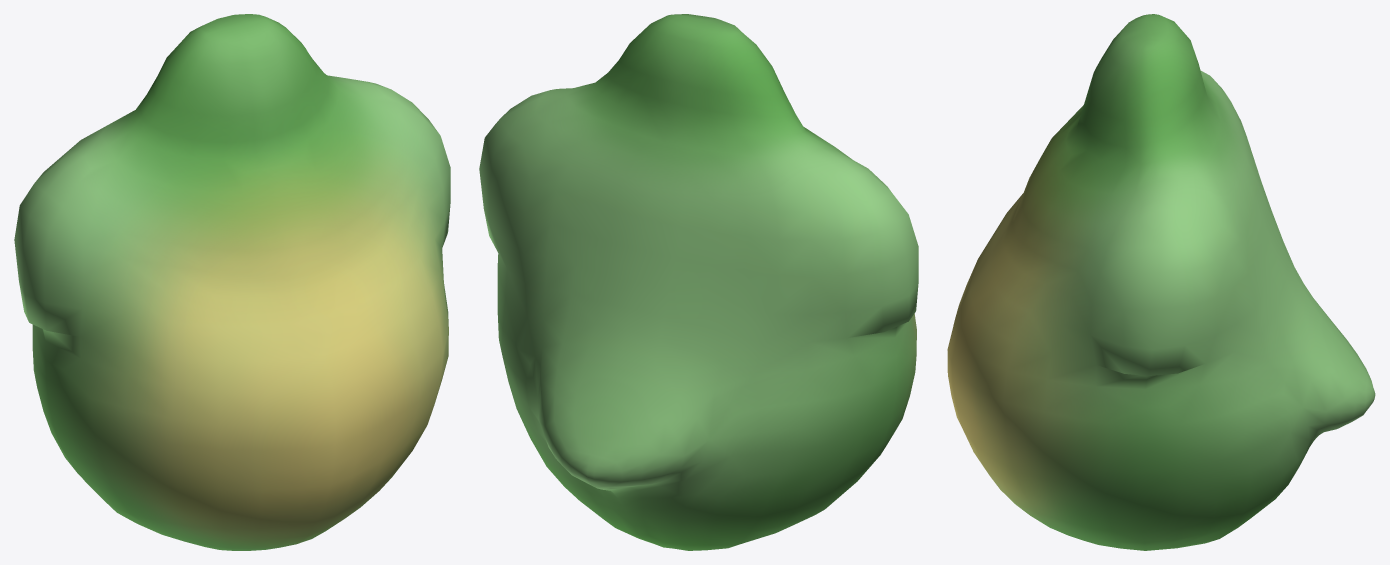
Rendered from Body1.glb.
3 views of the same model, side by side, from view 1: azimuth 30°, elevation 25°; view 2: azimuth 150°, elevation 25°; view 3: azimuth 270°, elevation 25° (orthographic).
Parts seen in each view (by area): view 1: Body1.001; view 2: Body1.001; view 3: Body1.001.
Part boxes in pixels (box(x1,y1,x2,y2)): Body1.001: box(14, 14, 450, 550); Body1.001: box(479, 14, 918, 550); Body1.001: box(947, 14, 1375, 550).
Bounding box in the file's own units: 0.4363 × 0.5091 × 0.3886.
1 material, 1 textured.
